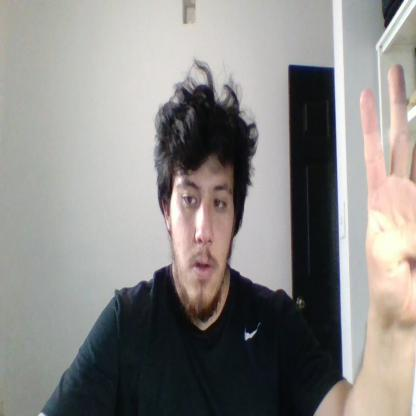W: (360, 62, 415, 327)
